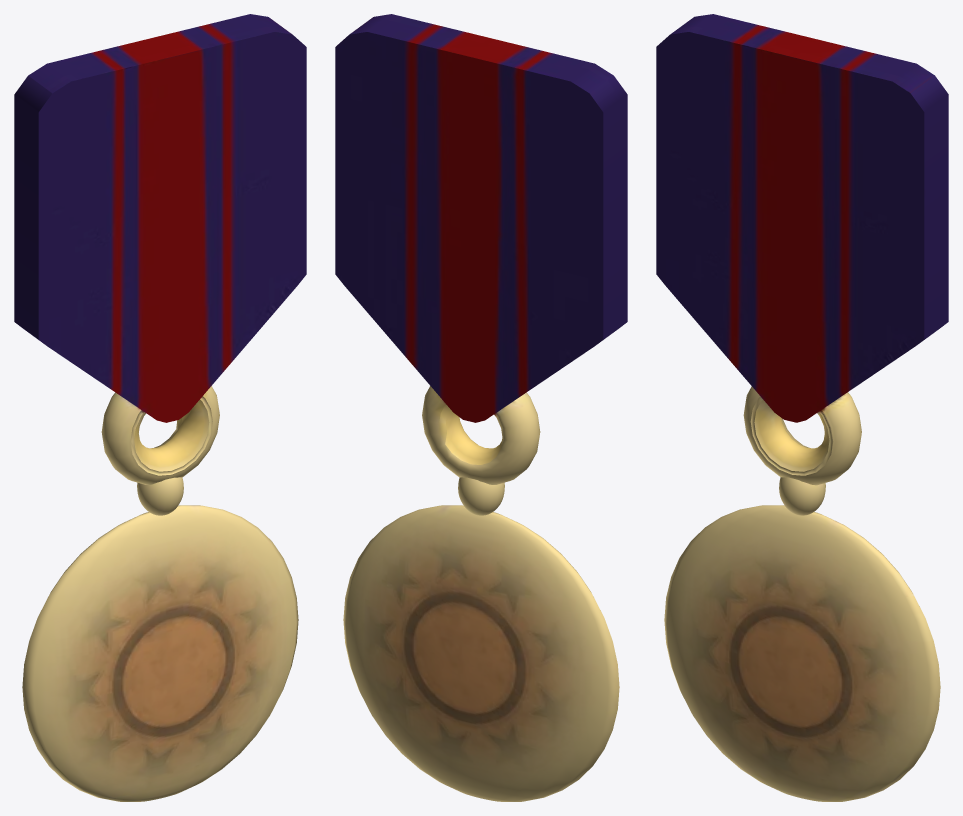
Rendered from star-medal.glb.
3 renders of one model, left to right at view 1: azimuth 30°, elevation 25°; view 2: azimuth 150°, elevation 25°; view 3: azimuth 330°, elevation 25°, orthographic.
Parts seen in each view (by area): view 1: pCube2; view 2: pCube2; view 3: pCube2.
Part boxes in pixels (x1,y1,x2,y2): pCube2: (14,14,306,801); pCube2: (335,14,627,801); pCube2: (656,14,948,801).
Bounding box in the file's own units: 0.0124 × 0.0321 × 0.00218.
Materials: 1 (1 with a texture image).
